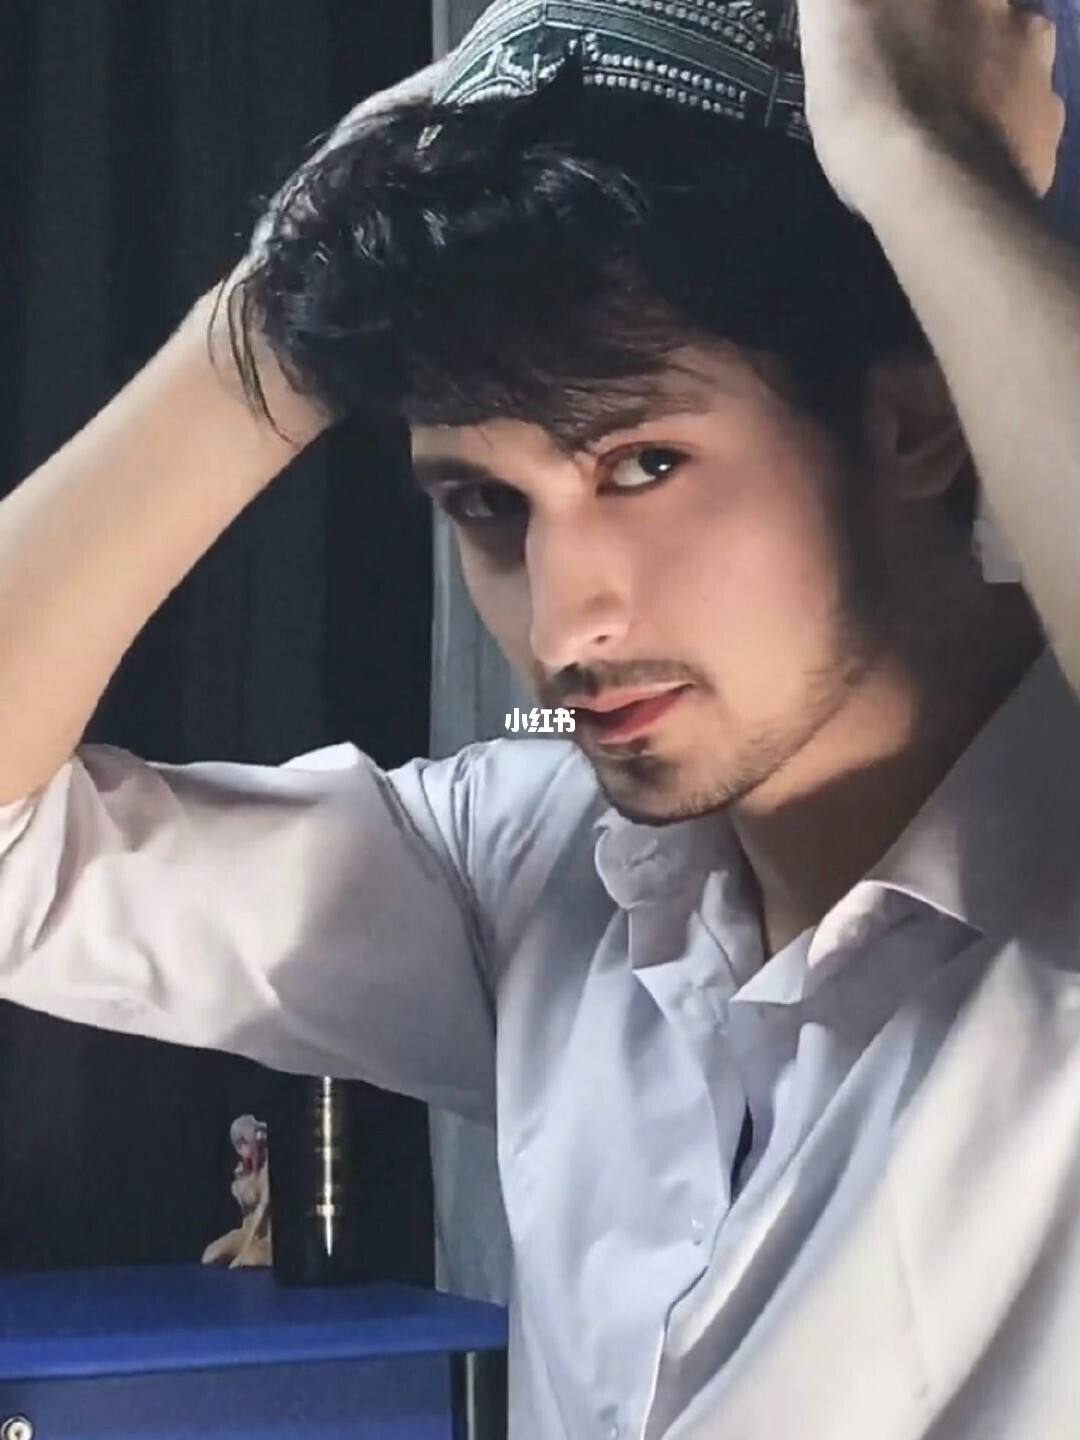person: (195, 95, 1080, 1367)
